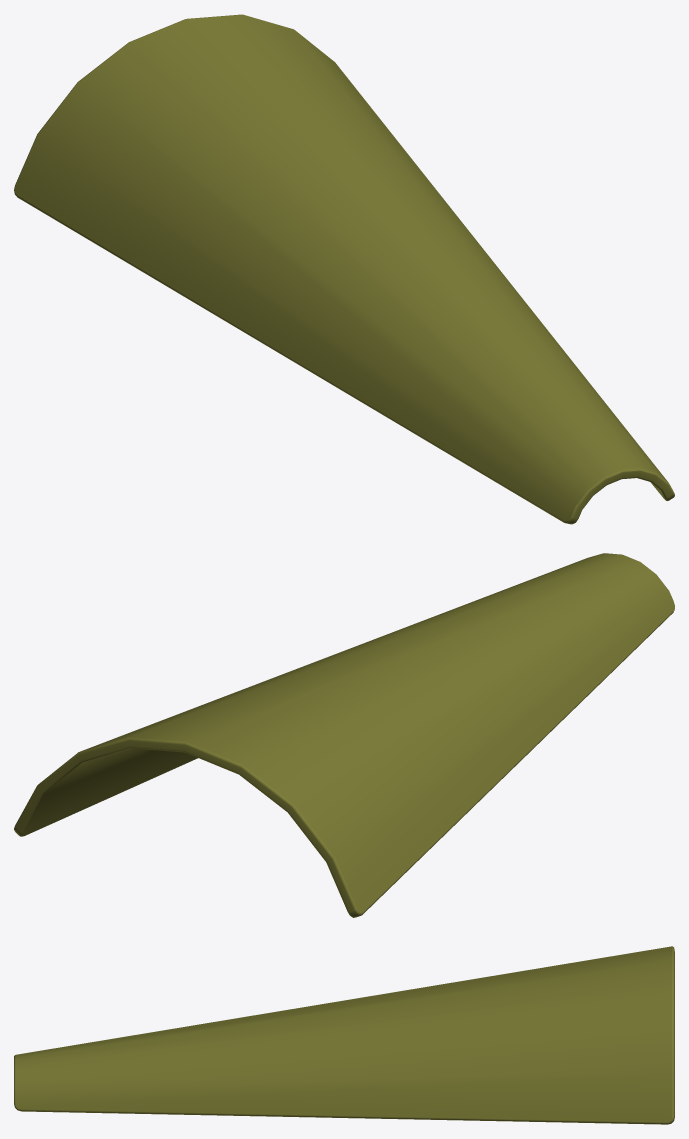
File: bomb_b_Lid.fbx
3 renders of one model, top to bottom at view 1: azimuth 30°, elevation 25°; view 2: azimuth 150°, elevation 25°; view 3: azimuth 270°, elevation 25°, orthographic. The views are drawn at different scales.
Visible parts, largest first — view 1: bomb_b_Lid; view 2: bomb_b_Lid; view 3: bomb_b_Lid.
Part boxes in pixels (x1,y1,x2,y2): bomb_b_Lid: [14, 14, 674, 524]; bomb_b_Lid: [14, 553, 674, 917]; bomb_b_Lid: [14, 946, 674, 1124].
Bounding box in the file's own units: 34.1 × 16.65 × 74.83.
